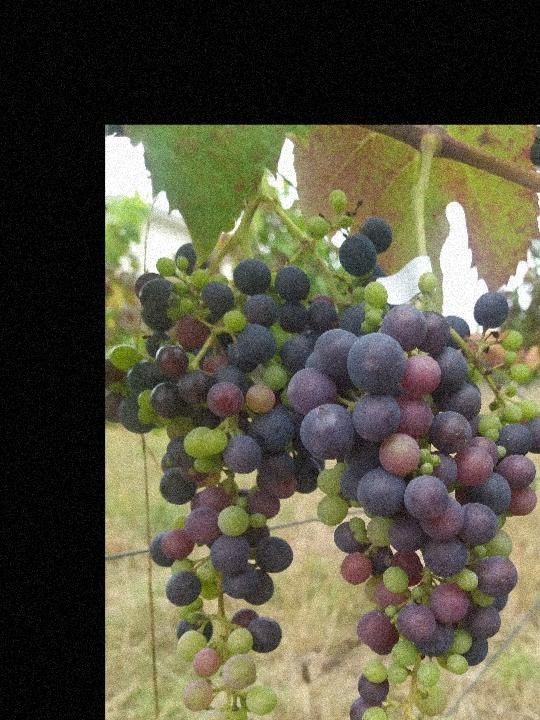grape: (105, 190, 395, 720), (287, 274, 540, 720)
